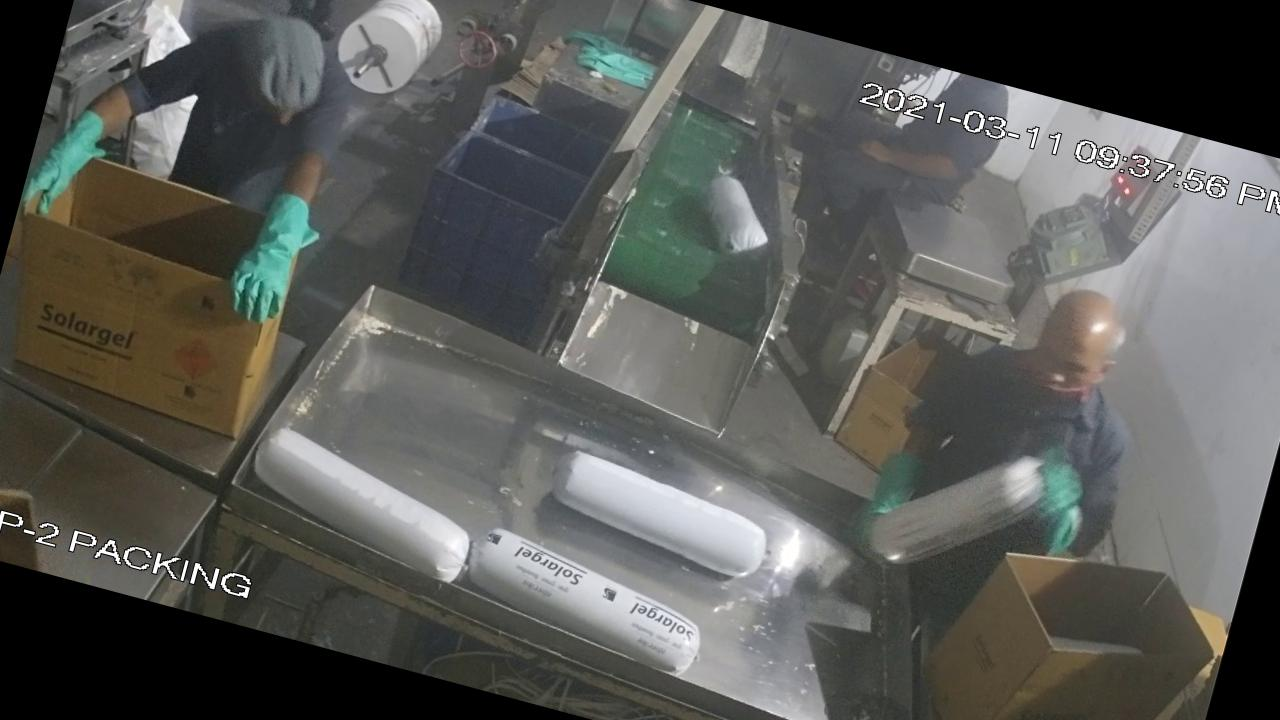Gloves: (202, 164, 344, 352), (14, 93, 126, 259)
No-gloves: (833, 115, 980, 201)
